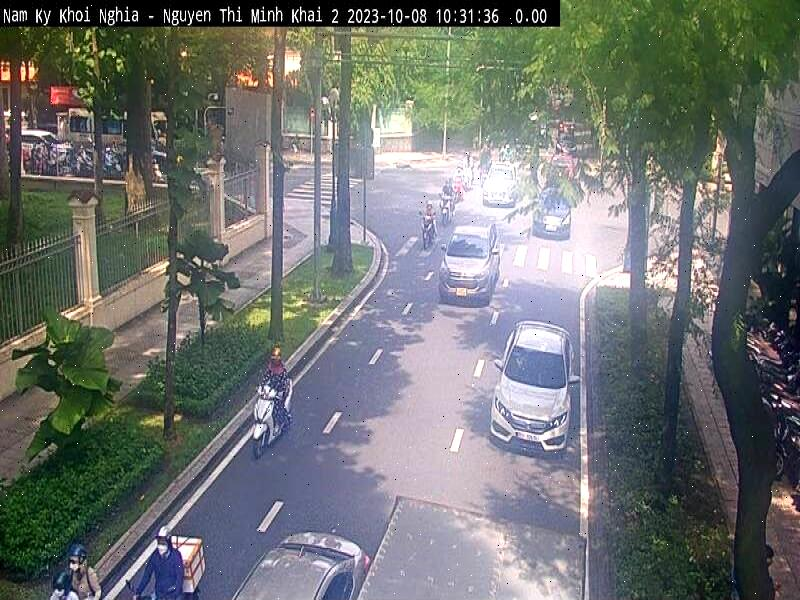car: (220, 487, 370, 598), (486, 316, 583, 460), (436, 217, 504, 310), (526, 181, 577, 241), (477, 159, 522, 210)
motorcycle: (248, 369, 294, 458), (421, 216, 439, 250)
truck: (349, 472, 590, 600)
